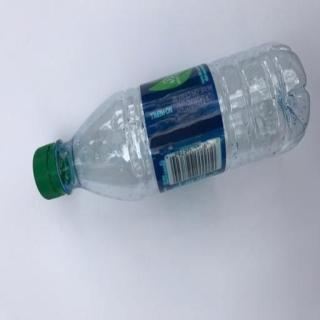Plastic-bottle: (31, 41, 314, 203)
